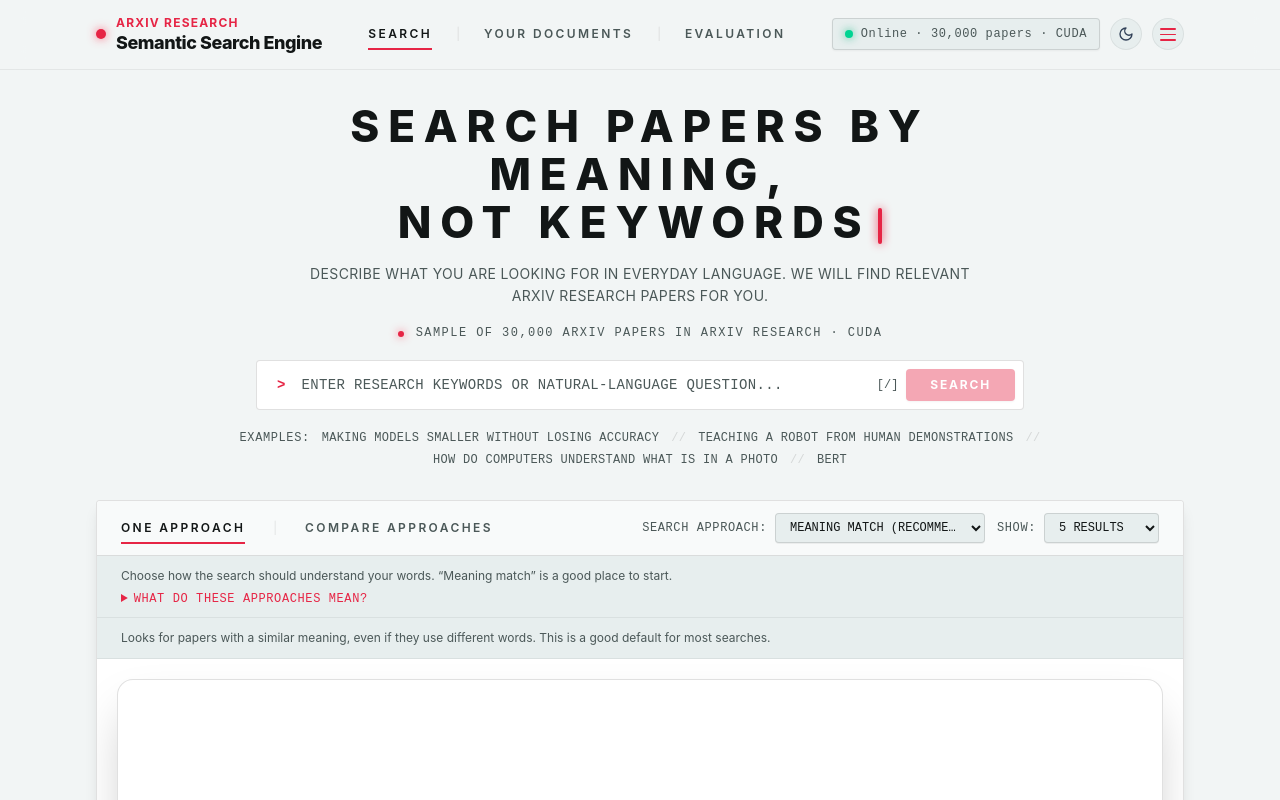
Test case: Your documents workspace view › removes an individual document when requested
The width and height of the screenshot is (1280, 800).
Expected: the text "Online · 30,000 papers · CUDA" is shown, [861, 25, 1087, 43]
What coordinates should you click on to do the following:
click the button "Your documents"
I would click on:
 (559, 34)
Its box is [484, 22, 633, 46].
(page scrolled)
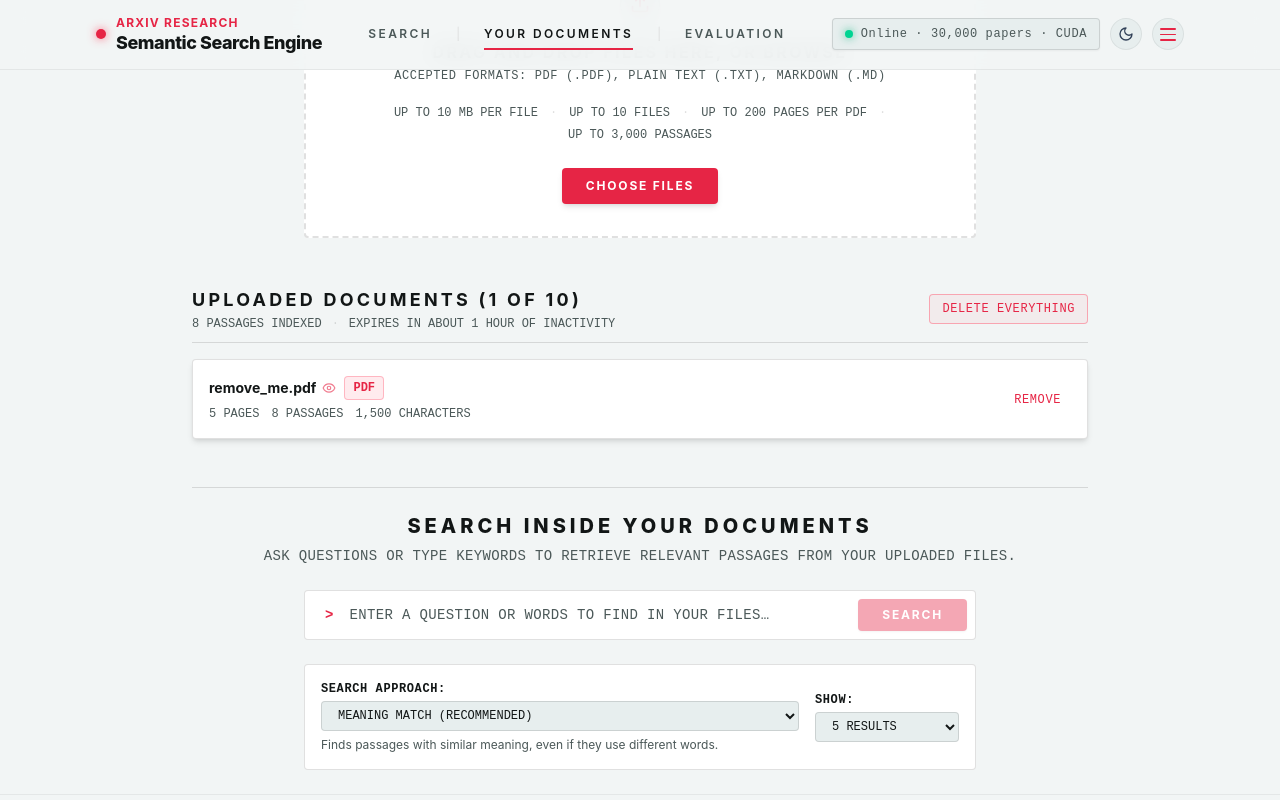
Result: the text "remove_me.pdf" is shown at [209, 378, 316, 398]
What coordinates should you click on to do the following:
click the button with aria-label "Remove remove_me.pdf"
I would click on:
 (1038, 400)
Its box is [1004, 388, 1071, 412].
(page scrolled)
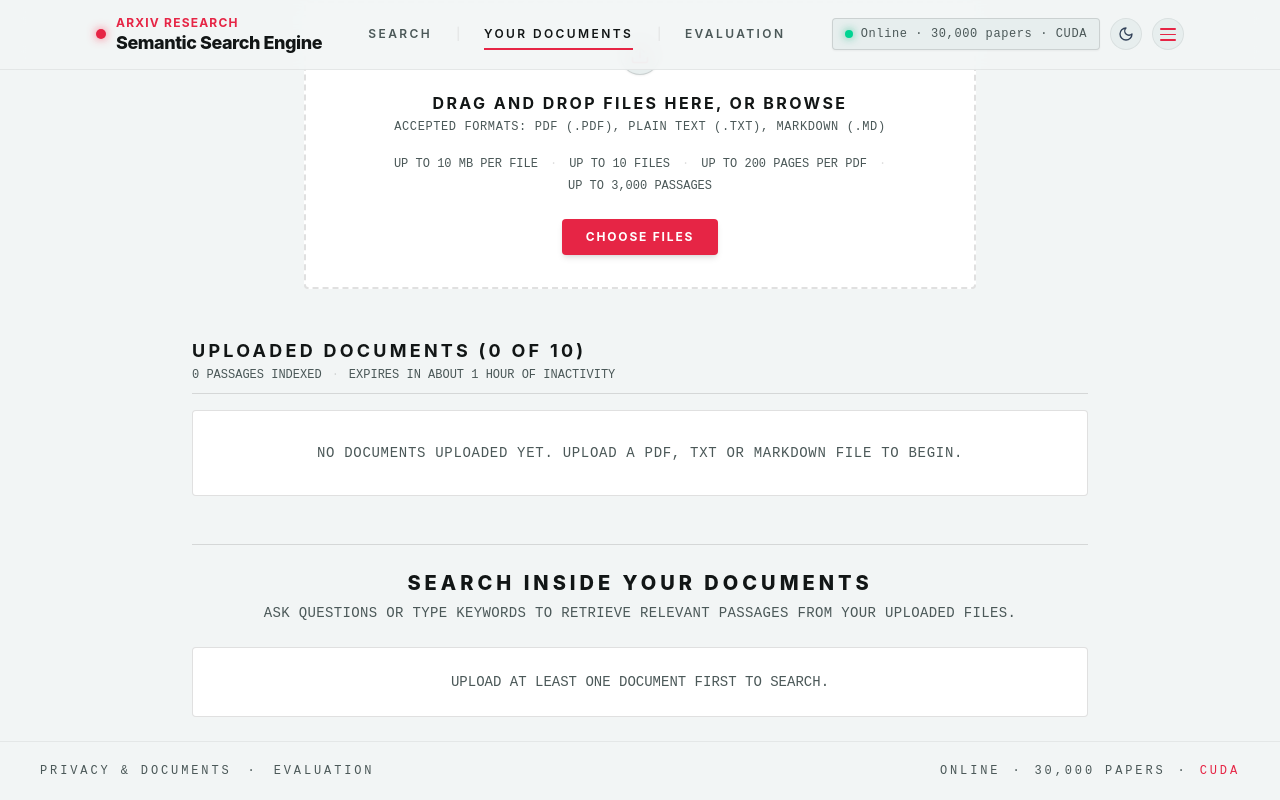
Result: the button "remove_me.pdf" is gone
Result: the text "No documents uploaded yet" is shown at [317, 444, 963, 460]
